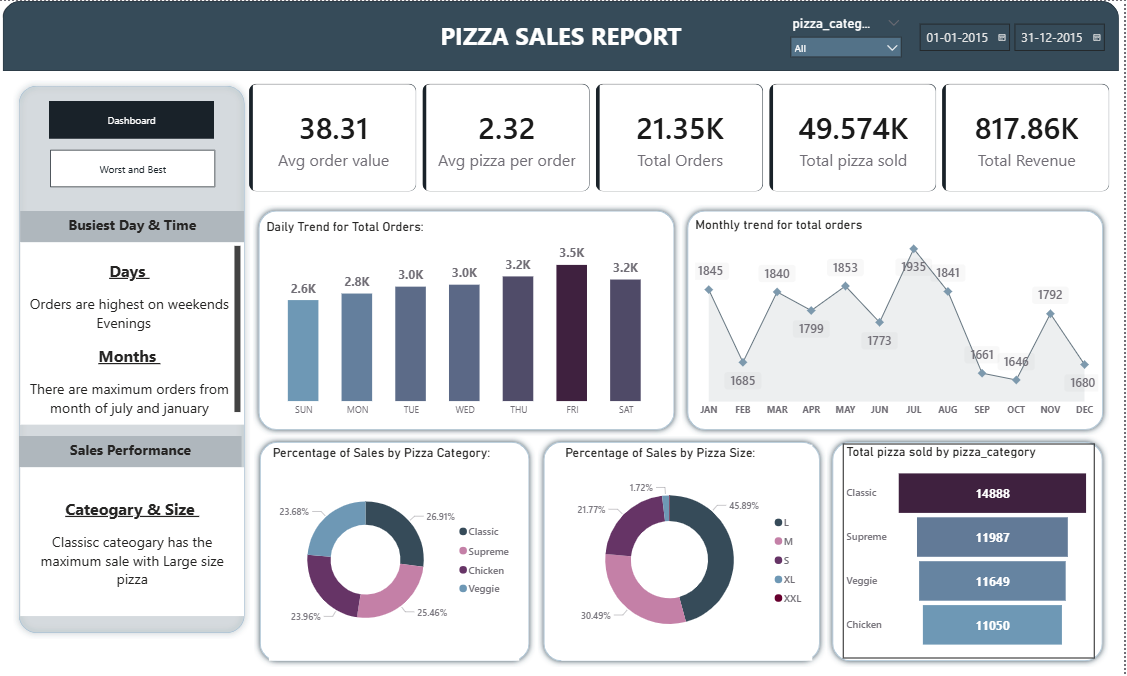

Layout of this report page (visuals, bound fields, positions):
{"tool":"powerbi","page":{"name":"Dashboard","canvas":[1500,900],"ordinal":0},"visuals":[{"type":"actionButton","box":[0,0,100,40],"z":0},{"type":"cardVisual","fields":{"Data":["pizza_sales.Avg oder value","pizza_sales.Avg pizza per oder","pizza_sales.Total Orders","pizza_sales.Total pizza sold","pizza_sales.Total Revenuev"]},"box":[316.7,93.3,1183.3,178.3],"z":1000},{"type":"shape","box":[5,0,1488.3,93.3],"z":2000},{"type":"textbox","box":[553.3,20,391.7,60],"z":3000},{"type":"shape","box":[338,272,570,308],"z":4000},{"type":"columnChart","title":"Daily Trend for Total Orders:","fields":{"Category":["pizza_sales.Order Day"],"Y":["pizza_sales.Total Orders"]},"box":[351.8,290,540,273.6],"z":5000},{"type":"shape","box":[910,272,570,308],"z":6000},{"type":"areaChart","title":"Monthly trend for total orders","fields":{"Y":["pizza_sales.Total Orders"],"Category":["pizza_sales.Order Month"]},"box":[922.5,288.3,547.5,275],"z":7000},{"type":"shape","box":[340,580,375,308],"z":8000},{"type":"shape","box":[718,580,384,308],"z":9000},{"type":"shape","box":[1104,580,376,308],"z":10000},{"type":"donutChart","title":"Percentage of Sales by Pizza Category:","fields":{"Category":["pizza_sales.pizza_category"],"Y":["pizza_sales.Total Revenuev"]},"box":[360,591.5,333.8,287.7],"z":11000},{"type":"donutChart","title":"Percentage of Sales by Pizza Size:","fields":{"Y":["pizza_sales.Total Revenuev"],"Category":["pizza_sales.pizza_size"]},"box":[749.5,590.9,334.3,287.7],"z":12000},{"type":"funnel","fields":{"Category":["pizza_sales.pizza_category"],"Y":["pizza_sales.Total pizza sold"]},"box":[1125.4,589.2,334.6,287.7],"z":13000},{"type":"shape","box":[18.6,104.3,317.1,745.7],"z":14000},{"type":"textbox","box":[27.5,280,298.8,41.2],"z":15000},{"type":"textbox","box":[27.1,580,297.1,41.4],"z":16000},{"type":"textbox","box":[28.6,321.4,298.6,242.9],"z":17000},{"type":"textbox","box":[28.6,621.4,298.6,198.6],"z":18000},{"type":"slicer","fields":{"Values":["pizza_sales.pizza_category"]},"box":[1045.7,14.3,168.6,80],"z":19000},{"type":"slicer","fields":{"Values":["pizza_sales.order_date"]},"box":[1214.3,20,280,94.3],"z":20000},{"type":"pageNavigator","box":[67.1,132.9,220,50],"z":21000},{"type":"pageNavigator","box":[68.6,198.6,220,50],"z":22000}]}

Visuals, with their boxes in screenshot pixels (x1, y1, x2, y2), scaled from the page's 1500x900 canvas onto the 1127x676 screenshot:
actionButton: x1=0, y1=0, x2=75, y2=30
cardVisual - pizza_sales.Avg oder value x pizza_sales.Avg pizza per oder: x1=238, y1=70, x2=1126, y2=204
shape: x1=4, y1=0, x2=1122, y2=70
textbox: x1=416, y1=15, x2=710, y2=60
shape: x1=254, y1=204, x2=682, y2=436
"Daily Trend for Total Orders:" columnChart: x1=264, y1=218, x2=670, y2=423
shape: x1=684, y1=204, x2=1112, y2=436
"Monthly trend for total orders" areaChart: x1=693, y1=217, x2=1104, y2=423
shape: x1=255, y1=436, x2=537, y2=667
shape: x1=539, y1=436, x2=828, y2=667
shape: x1=829, y1=436, x2=1112, y2=667
"Percentage of Sales by Pizza Category:" donutChart: x1=270, y1=444, x2=521, y2=660
"Percentage of Sales by Pizza Size:" donutChart: x1=563, y1=444, x2=814, y2=660
funnel - pizza_sales.pizza_category x pizza_sales.Total pizza sold: x1=846, y1=443, x2=1097, y2=659
shape: x1=14, y1=78, x2=252, y2=638
textbox: x1=21, y1=210, x2=245, y2=241
textbox: x1=20, y1=436, x2=244, y2=467
textbox: x1=21, y1=241, x2=246, y2=424
textbox: x1=21, y1=467, x2=246, y2=616
slicer - pizza_sales.pizza_category: x1=786, y1=11, x2=912, y2=71
slicer - pizza_sales.order_date: x1=912, y1=15, x2=1123, y2=86
pageNavigator: x1=50, y1=100, x2=216, y2=137
pageNavigator: x1=52, y1=149, x2=217, y2=187
